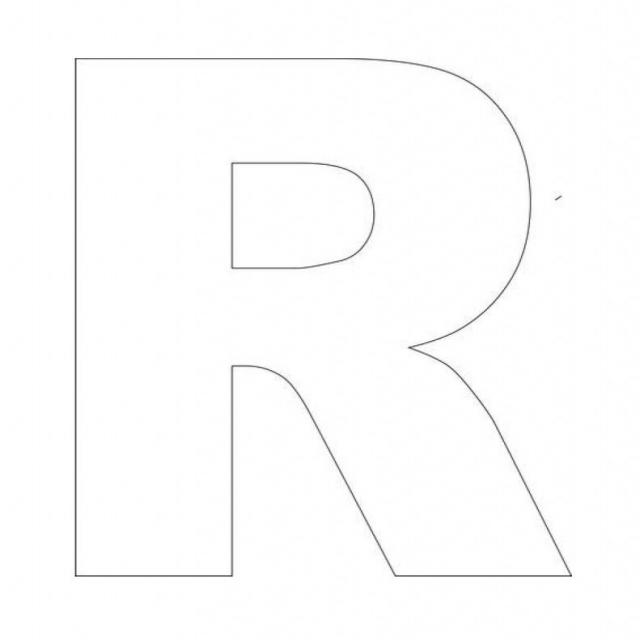R: (21, 31, 577, 596)
